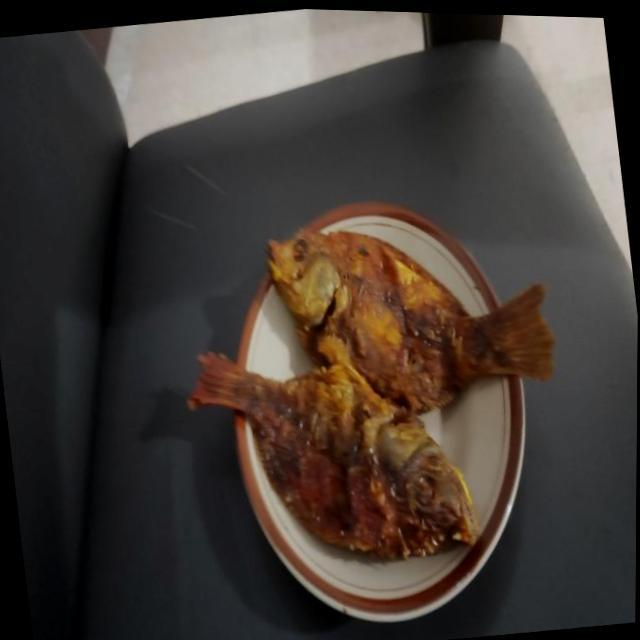ikan_mujair: (188, 352, 478, 559), (266, 229, 554, 412)
